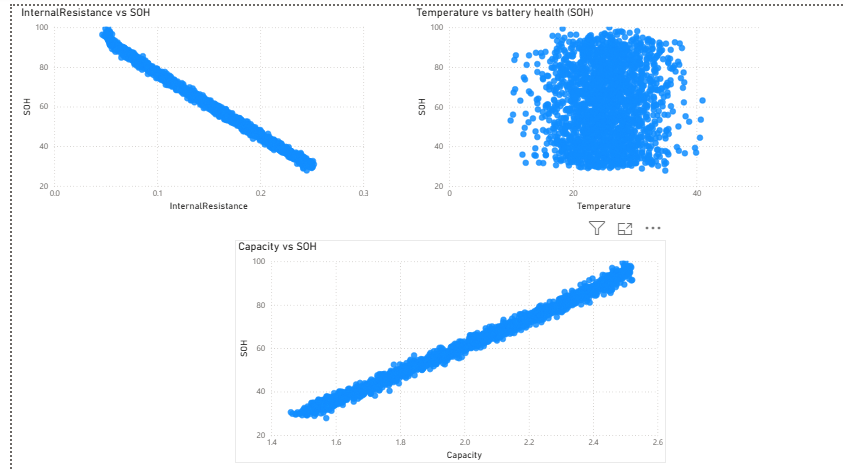

Layout of this report page (visuals, bound fields, positions):
{"tool":"powerbi","page":{"name":"Battery heath Analysis","canvas":[1280,720],"ordinal":1},"visuals":[{"type":"scatterChart","title":"InternalResistance vs SOH","fields":{"X":["battery_dataset.InternalResistance"],"Y":["battery_dataset.SOH"]},"box":[9.9,0,544.4,319.8],"z":0},{"type":"scatterChart","title":"Temperature vs battery health (SOH)","fields":{"X":["battery_dataset.Temperature"],"Y":["battery_dataset.SOH"]},"box":[616.7,0,543.3,320],"z":1},{"type":"scatterChart","title":"Capacity vs SOH","fields":{"X":["battery_dataset.Capacity"],"Y":["battery_dataset.SOH"]},"box":[343.3,360,663.3,343.3],"z":2}]}

Visuals, with their boxes in screenshot pixels (x1, y1, x2, y2), scaled from the page's 1280x720 canvas onto the 844x469 screenshot:
"InternalResistance vs SOH" scatterChart: BBox(7, 0, 365, 208)
"Temperature vs battery health (SOH)" scatterChart: BBox(407, 0, 765, 208)
"Capacity vs SOH" scatterChart: BBox(226, 234, 664, 458)
